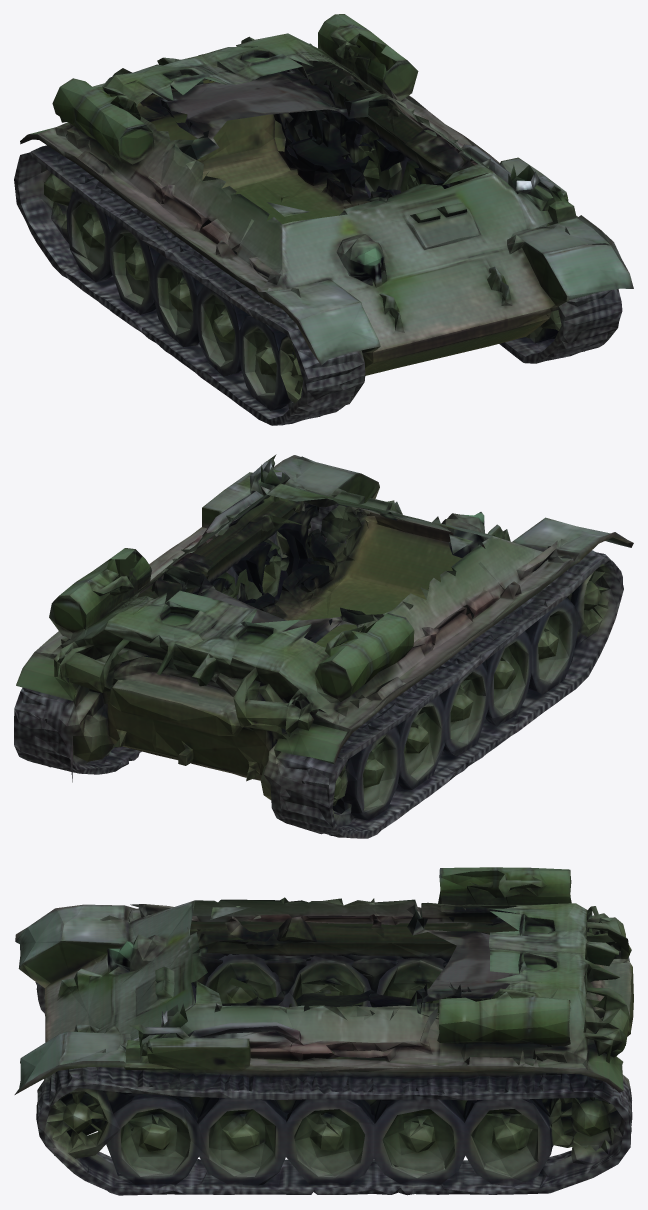
File: t34_85_hull.glb
3 renders of one model, top to bottom at view 1: azimuth 30°, elevation 25°; view 2: azimuth 150°, elevation 25°; view 3: azimuth 270°, elevation 25°, orthographic.
Visible parts, largest first — view 1: t34_85_00001_.glb; view 2: t34_85_00001_.glb; view 3: t34_85_00001_.glb.
Part boxes in pixels (bbox=[...]): t34_85_00001_.glb: bbox=[14, 14, 633, 425]; t34_85_00001_.glb: bbox=[14, 454, 633, 838]; t34_85_00001_.glb: bbox=[14, 867, 633, 1195].
Size of the model in its own units: 3.64 by 2.02 by 6.02.
Materials: 1 (1 with a texture image).
